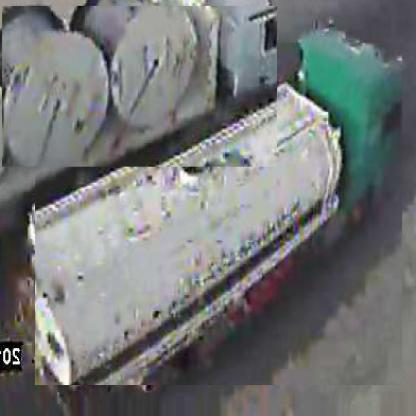container: (35, 44, 403, 387), (2, 7, 278, 169)
